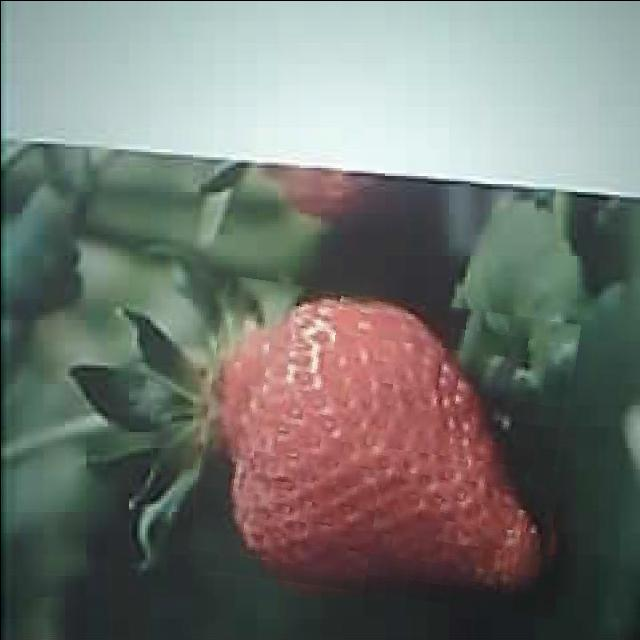strawberry: (194, 286, 570, 604)
